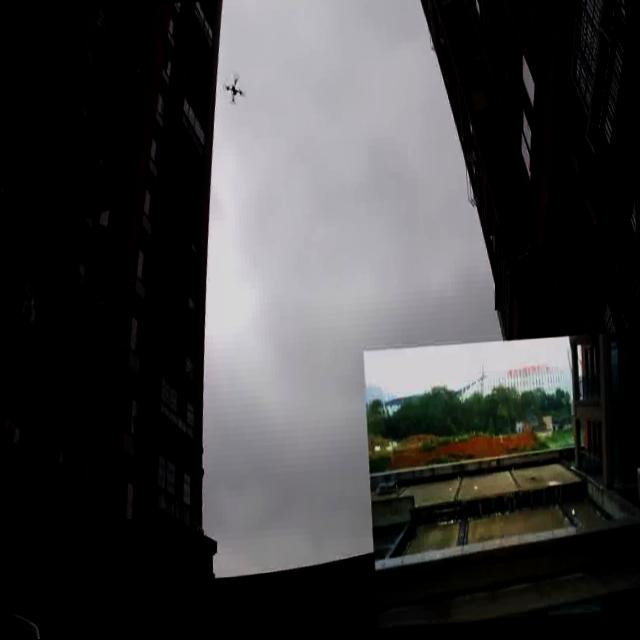drone: (220, 70, 246, 109)
